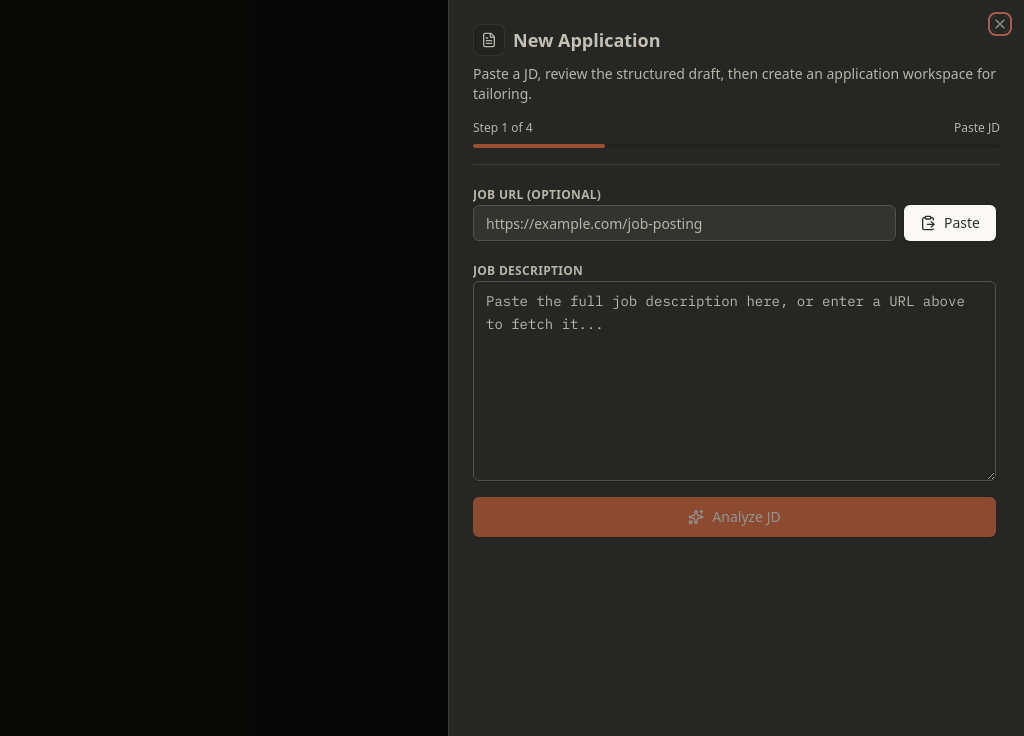
ManualImportSheet › shows warnings and requires required fields before import
The width and height of the screenshot is (1024, 736).
Step 1. Replace the text in the text box with placeholder "Paste the full job description here, or enter a URL above to fetch it..." with "Manual QA Engineer role." → (734, 381), box [473,281,996,481]
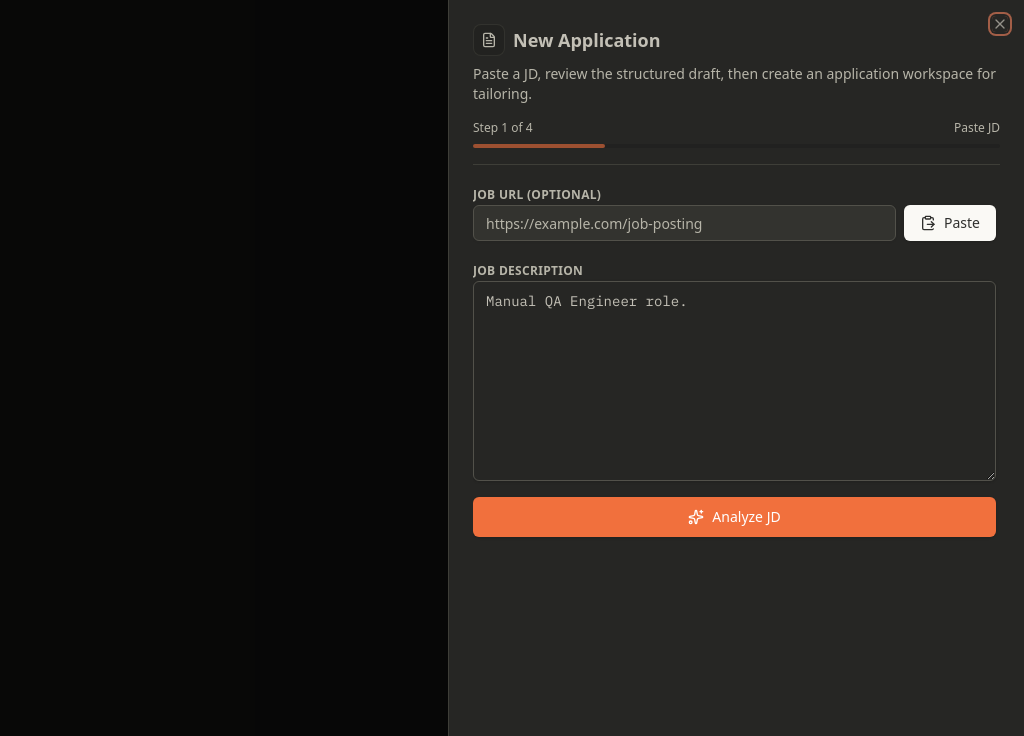
Step 2. Click the button "Analyze JD" → (734, 517), box [473,497,996,537]
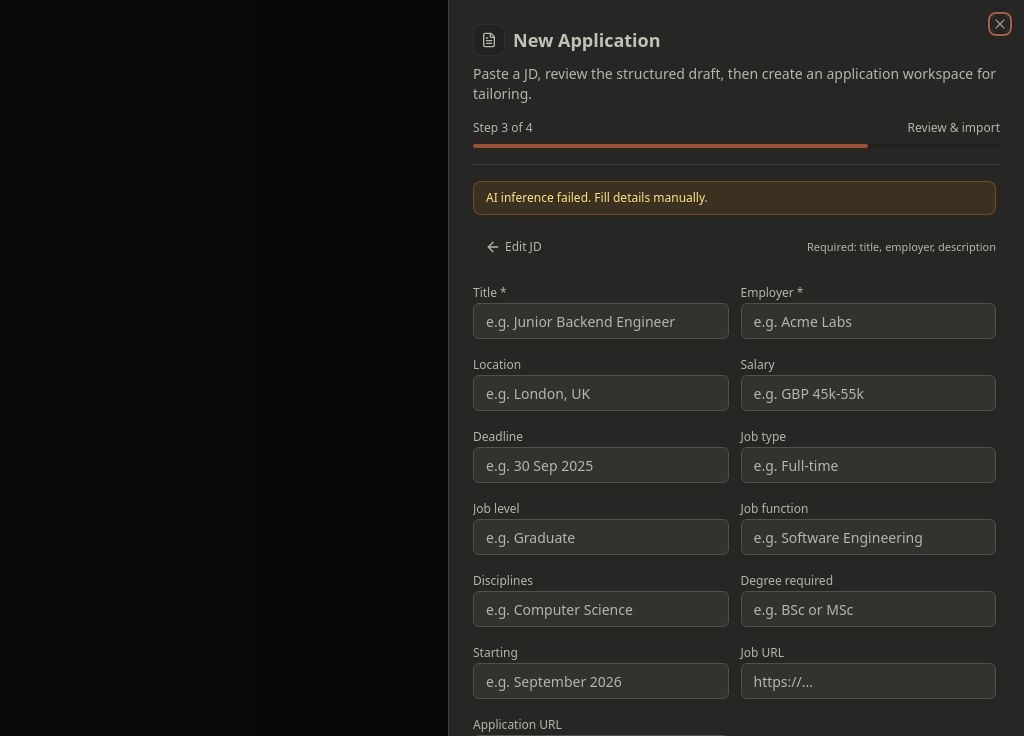
Expected: the text "AI inference failed. Fill details manually." is shown, [473,181,996,215]
Step 3. Type "QA Engineer" into the field with placeholder "e.g. Junior Backend Engineer" → (601, 321), box [473,303,728,339]
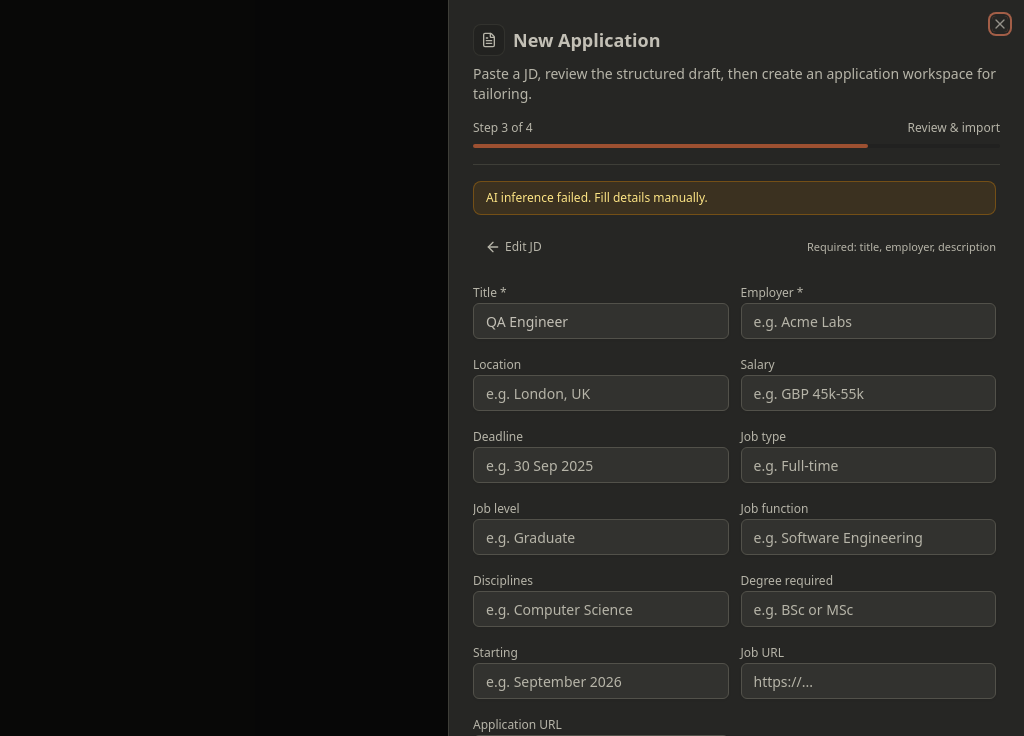
Step 4. Type "Acme Labs" into the field with placeholder "e.g. Acme Labs" → (868, 321), box [740,303,996,339]
(page scrolled)
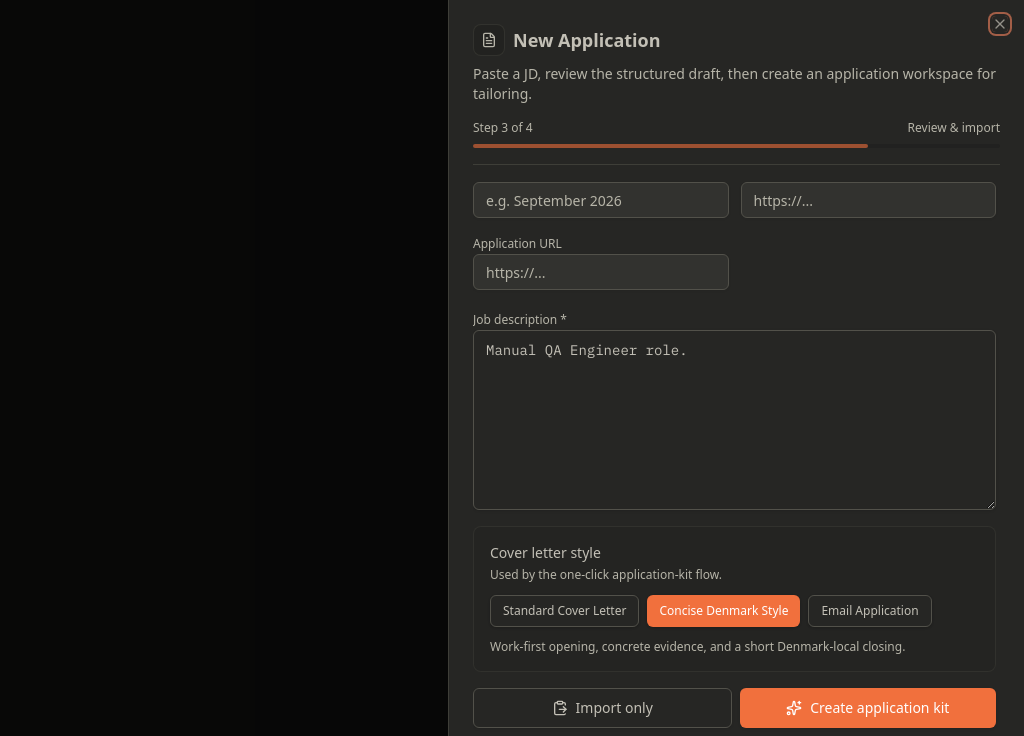
Expected: the button "Import only" is enabled, [473,688,732,728]
